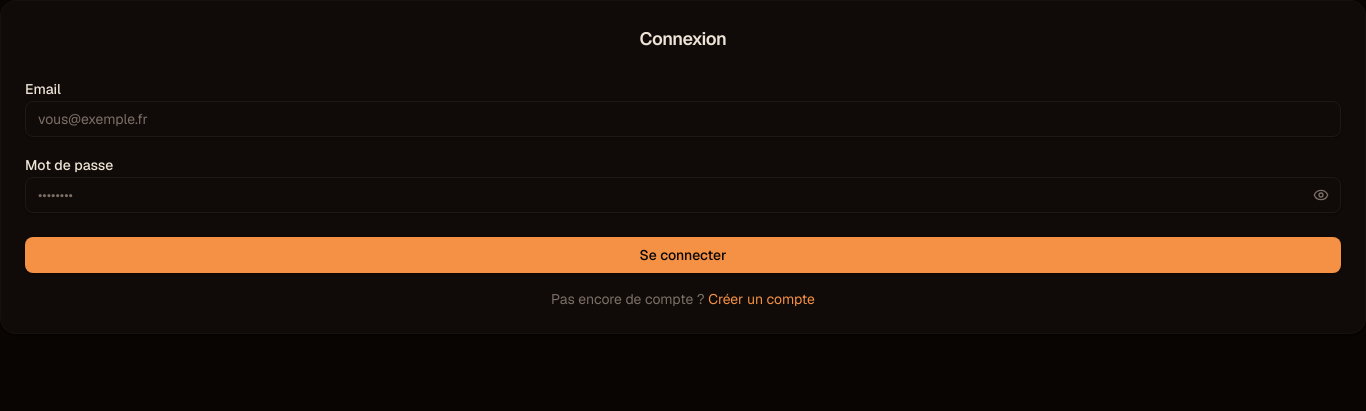
LoginPage › shows error message on failed login
Type "test@test.com" into the field labelled "Email" at (683, 119), box [25,101,1341,137]
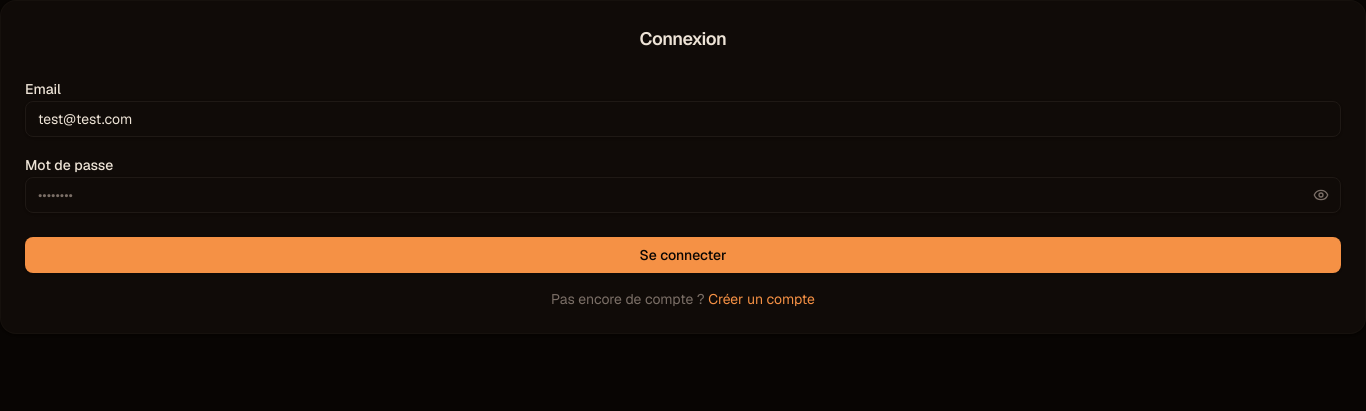
Type "wrongpassword" into the password field labelled "Mot de passe" at (683, 195), box [25,177,1341,213]
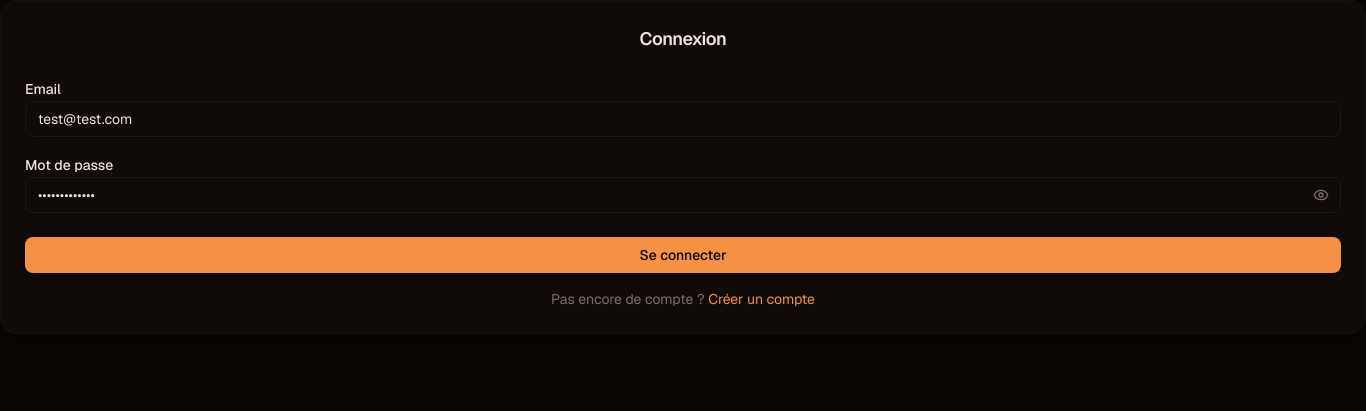
Click the button "Se connecter" at (683, 255), box [25,237,1341,273]
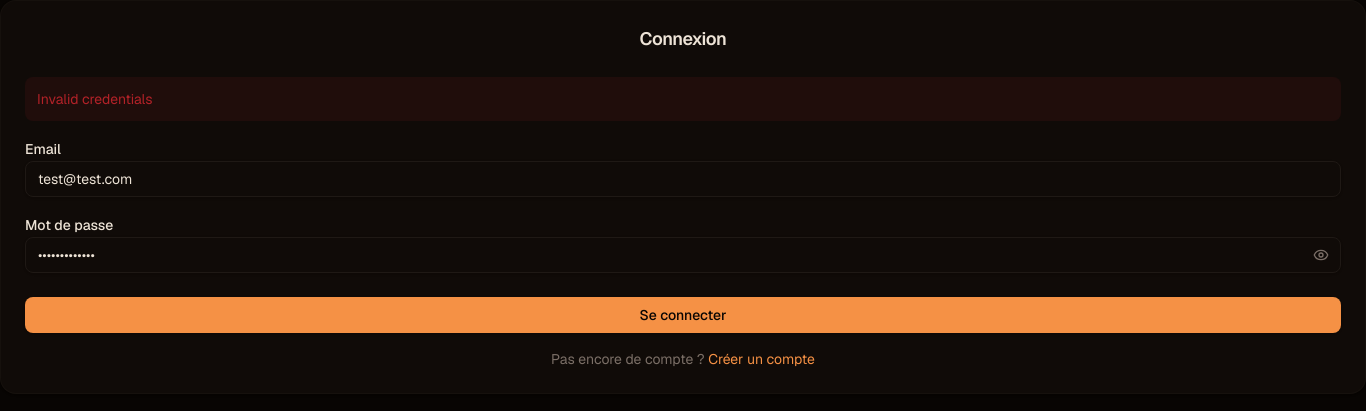
Check: the text "Invalid credentials" is shown, box [25,77,1341,121]
